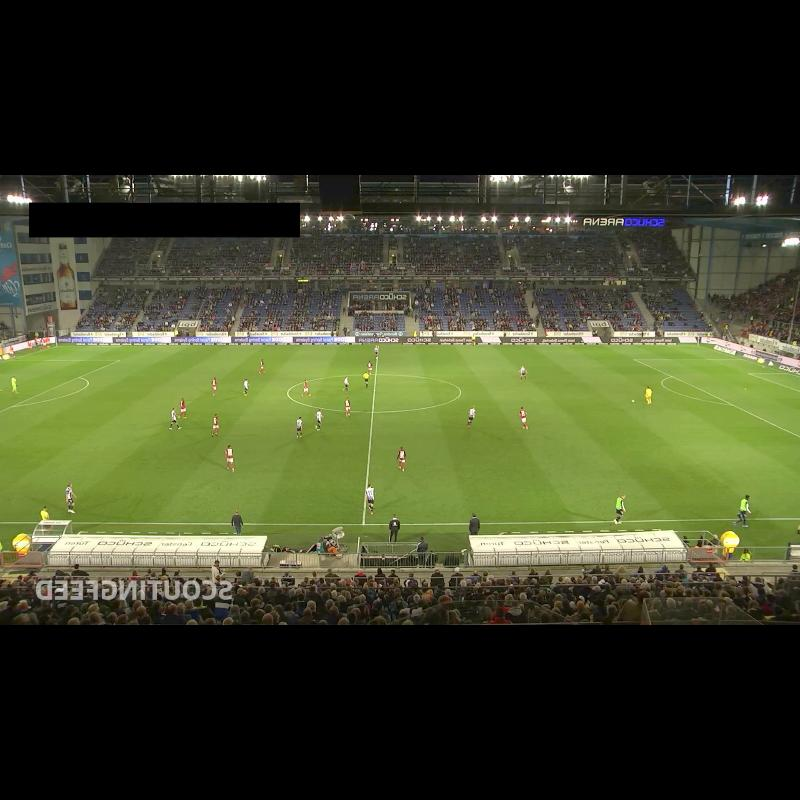cross_recipient_zone: (635, 359, 800, 437), (0, 360, 119, 412)
crossing_player_zone: (712, 444, 800, 505), (13, 346, 203, 360), (556, 346, 739, 360), (0, 445, 35, 468)
pitch: (0, 346, 800, 522)
